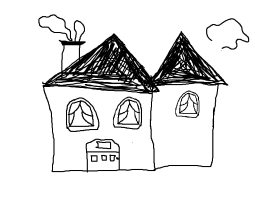clouds: (204, 17, 250, 50)
door: (82, 136, 122, 176)
open_window: (65, 97, 101, 132), (113, 96, 141, 130), (175, 91, 200, 118)
shaded_roof: (43, 33, 159, 94), (150, 31, 228, 86)
smoking_chimney: (36, 10, 97, 71)
wall: (42, 82, 158, 176), (148, 80, 221, 176)
